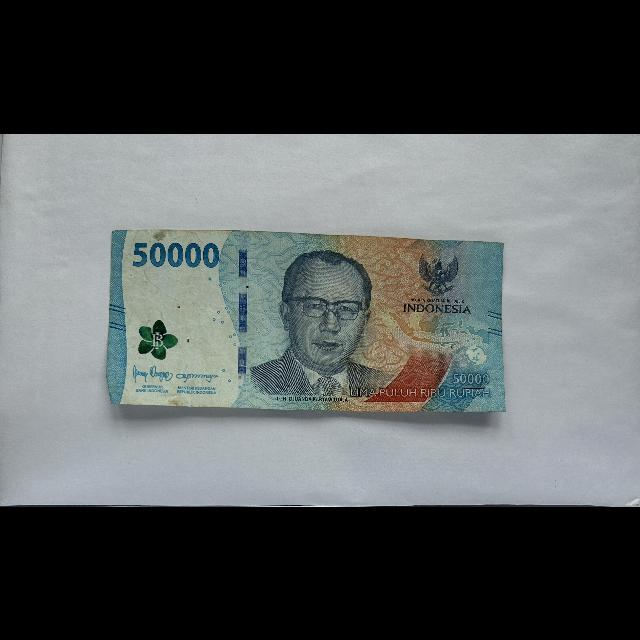Asli-50k: (104, 228, 506, 414)
Tinta-Asli-50k: (138, 318, 179, 361)
